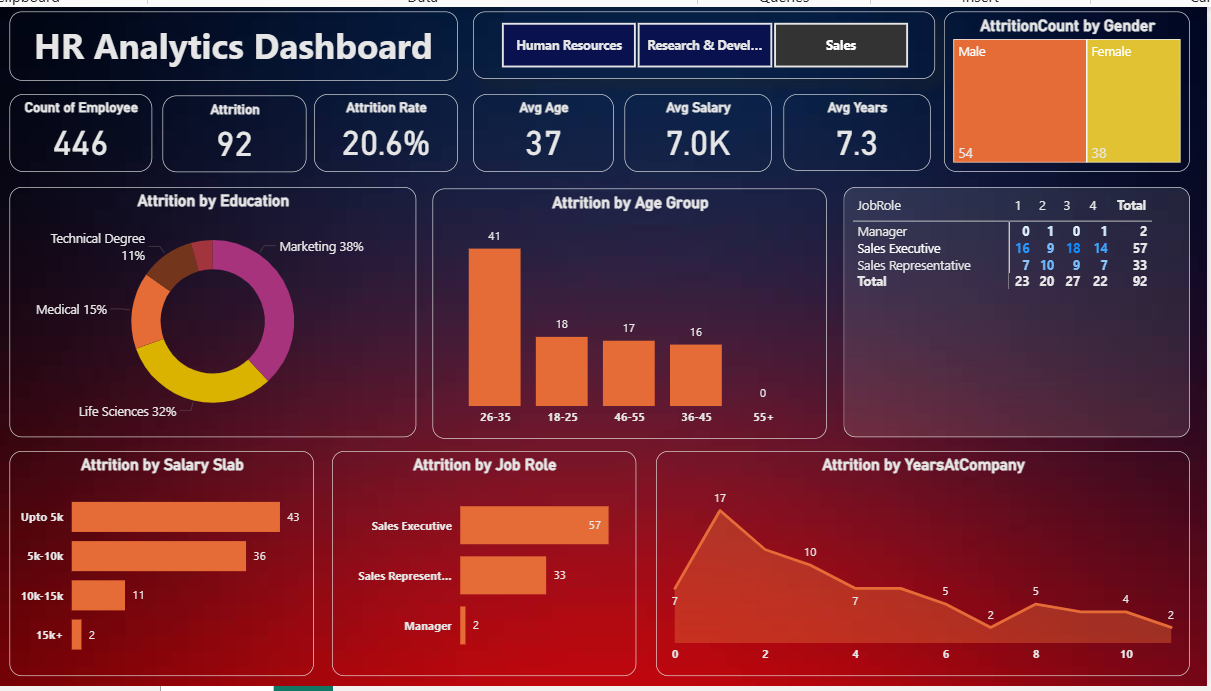

The page's visual inventory and layout, read from the dashboard file:
{"tool":"powerbi","page":{"name":"Page 1","canvas":[1280,720],"ordinal":0},"visuals":[{"type":"card","title":"Count of Employee","fields":{"Values":["CountNonNull(HR_Analytics.EmpID)"]},"box":[11.1,92.3,151.1,82.7],"z":0},{"type":"card","title":"Attrition","fields":{"Values":["Sum(HR_Analytics.AttritionCount)"]},"box":[173.4,93.8,152.7,81.1],"z":1000},{"type":"card","title":"Attrition Rate","fields":{"Values":["HR_Analytics.AttritionRate"]},"box":[334,92.3,152.7,82.7],"z":2000},{"type":"card","title":"Avg Age","fields":{"Values":["Avg(HR_Analytics.Age)"]},"box":[502.6,92.3,149.5,82.7],"z":3000},{"type":"card","title":"Avg Salary","fields":{"Values":["Avg(HR_Analytics.MonthlyIncome)"]},"box":[663.3,92.3,155.9,82.7],"z":4000},{"type":"card","title":"Avg Years","fields":{"Values":["Avg(HR_Analytics.YearsAtCompany)"]},"box":[831.9,92.3,155.9,81.1],"z":5000},{"type":"donutChart","title":"Attrition by Education","fields":{"Category":["HR_Analytics.EducationField"],"Y":["Sum(HR_Analytics.AttritionCount)"]},"box":[11.1,190.9,431.1,265.6],"z":6000},{"type":"columnChart","title":"Attrition by Age Group","fields":{"Category":["HR_Analytics.AgeGroup"],"Y":["Sum(HR_Analytics.AttritionCount)"]},"box":[459.7,192.5,418.3,265.6],"z":7000},{"type":"pivotTable","fields":{"Rows":["HR_Analytics.JobRole"],"Columns":["HR_Analytics.JobSatisfaction"],"Values":["Sum(HR_Analytics.AttritionCount)"]},"box":[895.5,190.9,367.4,265.6],"z":8000},{"type":"barChart","title":"Attrition by Salary Slab","fields":{"Category":["HR_Analytics.SalarySlab"],"Y":["Sum(HR_Analytics.AttritionCount)"]},"box":[11.1,470.8,322.9,238.6],"z":9000},{"type":"barChart","title":"Attrition by Job Role","fields":{"Y":["Sum(HR_Analytics.AttritionCount)"],"Category":["HR_Analytics.JobRole"]},"box":[353.1,470.8,322.9,238.6],"z":10000},{"type":"areaChart","title":"Attrition by YearsAtCompany","fields":{"Y":["Sum(HR_Analytics.AttritionCount)"],"Category":["HR_Analytics.YearsAtCompany"]},"box":[696.7,470.8,566.3,238.6],"z":11000},{"type":"treemap","title":" AttritionCount by Gender","fields":{"Group":["HR_Analytics.Gender"],"Values":["Sum(HR_Analytics.AttritionCount)"]},"box":[1002.1,4.8,260.9,170.2],"z":12000},{"type":"slicer","title":"Department","fields":{"Values":["HR_Analytics.Department"]},"box":[502.6,4.8,489.9,71.6],"z":13000},{"type":"textbox","box":[11.1,4.8,475.6,73.2],"z":14000}]}

Visuals, with their boxes in screenshot pixels (x1, y1, x2, y2):
"Count of Employee" card: region(0, 86, 141, 166)
"Attrition" card: region(152, 88, 300, 166)
"Attrition Rate" card: region(307, 86, 455, 166)
"Avg Age" card: region(470, 86, 615, 166)
"Avg Salary" card: region(626, 86, 777, 166)
"Avg Years" card: region(789, 86, 940, 165)
"Attrition by Education" donutChart: region(0, 182, 412, 438)
"Attrition by Age Group" columnChart: region(429, 183, 834, 440)
pivotTable - HR_Analytics.JobRole x HR_Analytics.JobSatisfaction: region(850, 182, 1206, 438)
"Attrition by Salary Slab" barChart: region(0, 452, 307, 683)
"Attrition by Job Role" barChart: region(326, 452, 638, 683)
"Attrition by YearsAtCompany" areaChart: region(658, 452, 1206, 683)
" AttritionCount by Gender" treemap: region(954, 1, 1206, 166)
"Department" slicer: region(470, 1, 944, 71)
textbox: region(0, 1, 455, 72)
